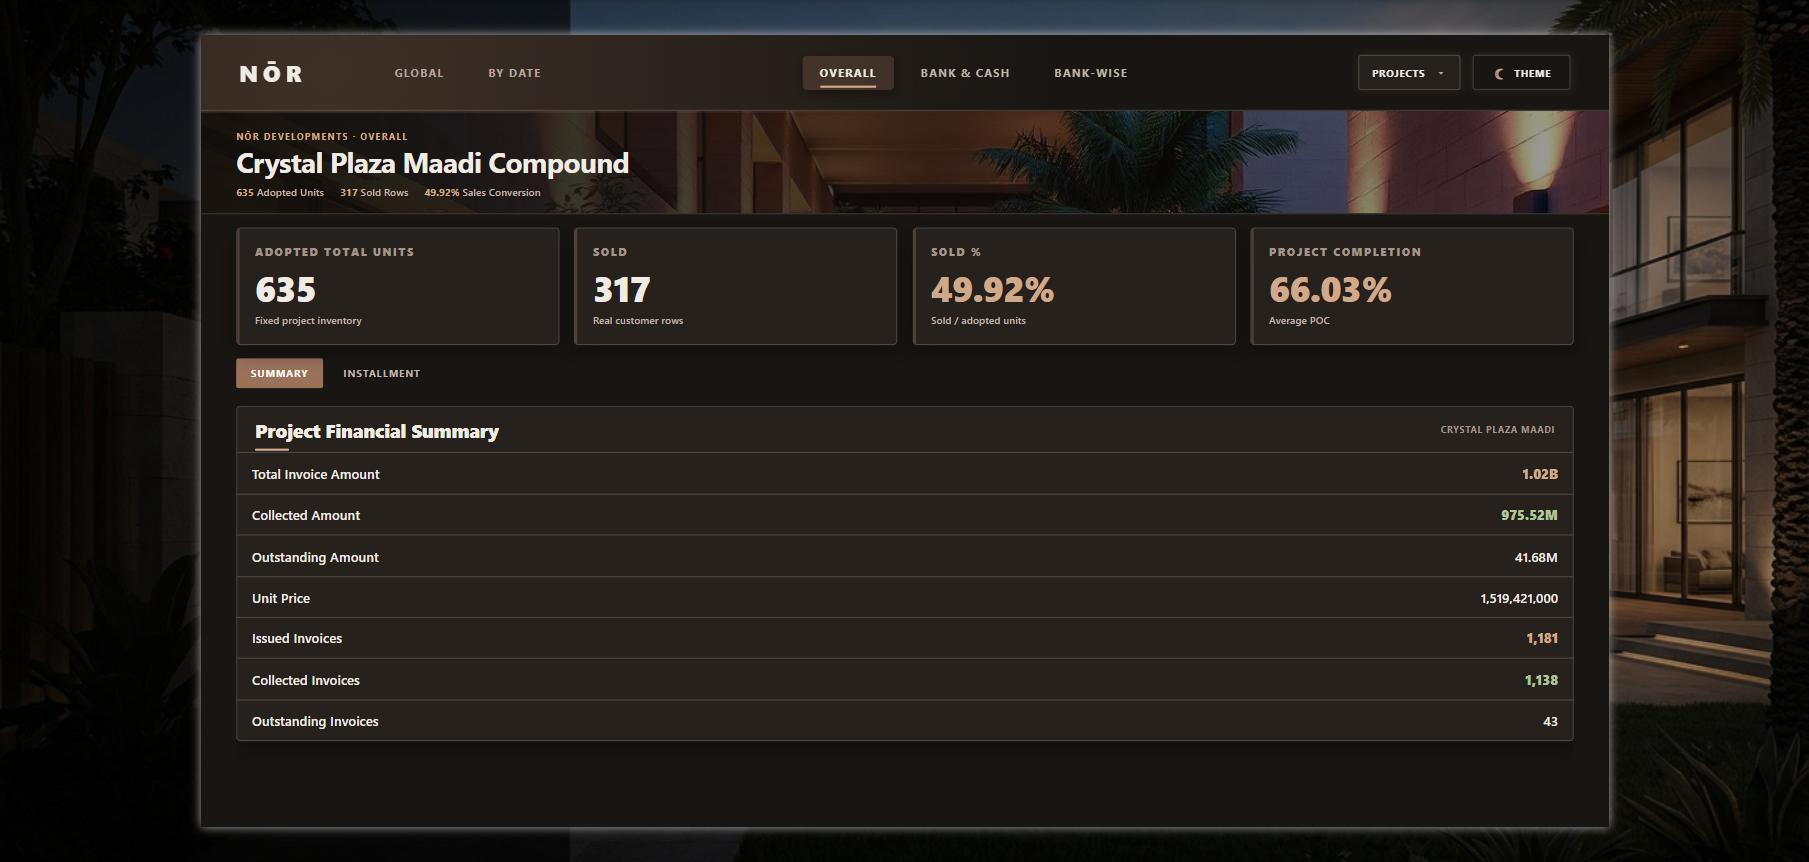

The page's visual inventory and layout, read from the dashboard file:
{"tool":"powerbi","page":{"name":"Crystal Plaza Maadi","canvas":[1280,720],"ordinal":3},"visuals":[{"type":"htmlContent443BE3AD55E043BF878BED274D3A6855","fields":{"content":["HTML Visuals.HTML_CrystalPlaza_OnePage"]},"box":[0,0,1280,720],"z":0}]}

Visuals, with their boxes on the page's 1280x720 design canvas (x1, y1, x2, y2). These are canvas units, not pixel positions in the 1809x862 screenshot, which may show the page scaled, cropped or inside an application window:
htmlContent443BE3AD55E043BF878BED274D3A6855 - HTML Visuals.HTML_CrystalPlaza_OnePage: {"left": 0, "top": 0, "right": 1280, "bottom": 720}
